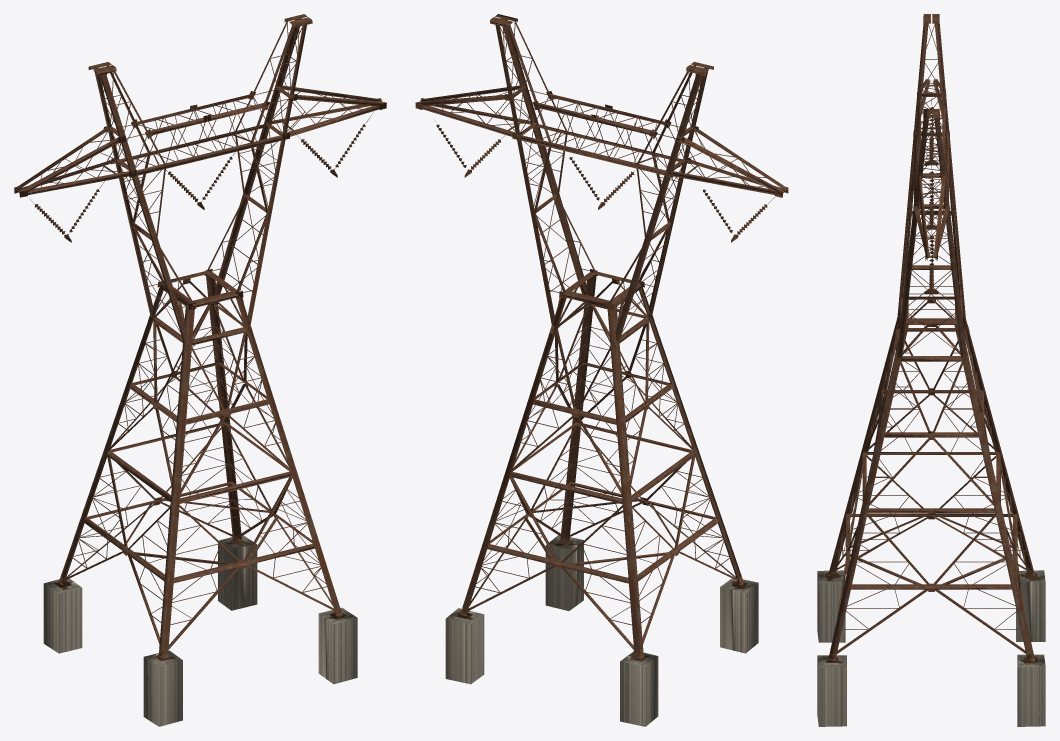
File: powerline_a.glb
3 views of the same model, side by side, from view 1: azimuth 30°, elevation 25°; view 2: azimuth 150°, elevation 25°; view 3: azimuth 270°, elevation 25° (orthographic).
Parts seen in each view (by area): view 1: powerline_a_LOD0; view 2: powerline_a_LOD0; view 3: powerline_a_LOD0.
Part boxes in pixels (box(x1,y1,x2,y2)): powerline_a_LOD0: box(14, 14, 386, 726); powerline_a_LOD0: box(415, 14, 788, 726); powerline_a_LOD0: box(817, 14, 1045, 726).
Size of the model in its own units: 24.83 by 39.9 by 13.48.
Materials: 1 (1 with a texture image).
